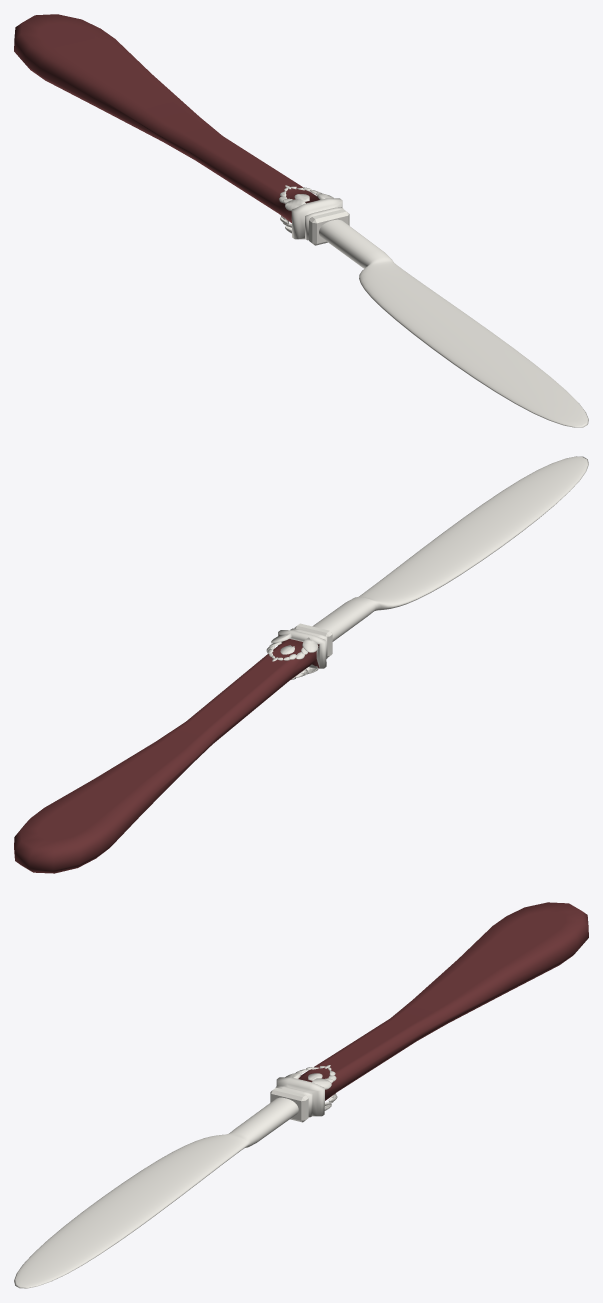
The model's file is knife.fbx.
3 renders of one model, top to bottom at view 1: azimuth 30°, elevation 25°; view 2: azimuth 150°, elevation 25°; view 3: azimuth 330°, elevation 25°, orthographic. The views are drawn at different scales.
Visible parts, largest first — view 1: Knife1; view 2: Knife1; view 3: Knife1.
Part boxes in pixels (bbox=[...]): Knife1: bbox=[14, 14, 588, 427]; Knife1: bbox=[14, 456, 588, 873]; Knife1: bbox=[14, 902, 588, 1288].
Bounding box in the file's own units: 1.9 × 0.9263 × 21.43.
